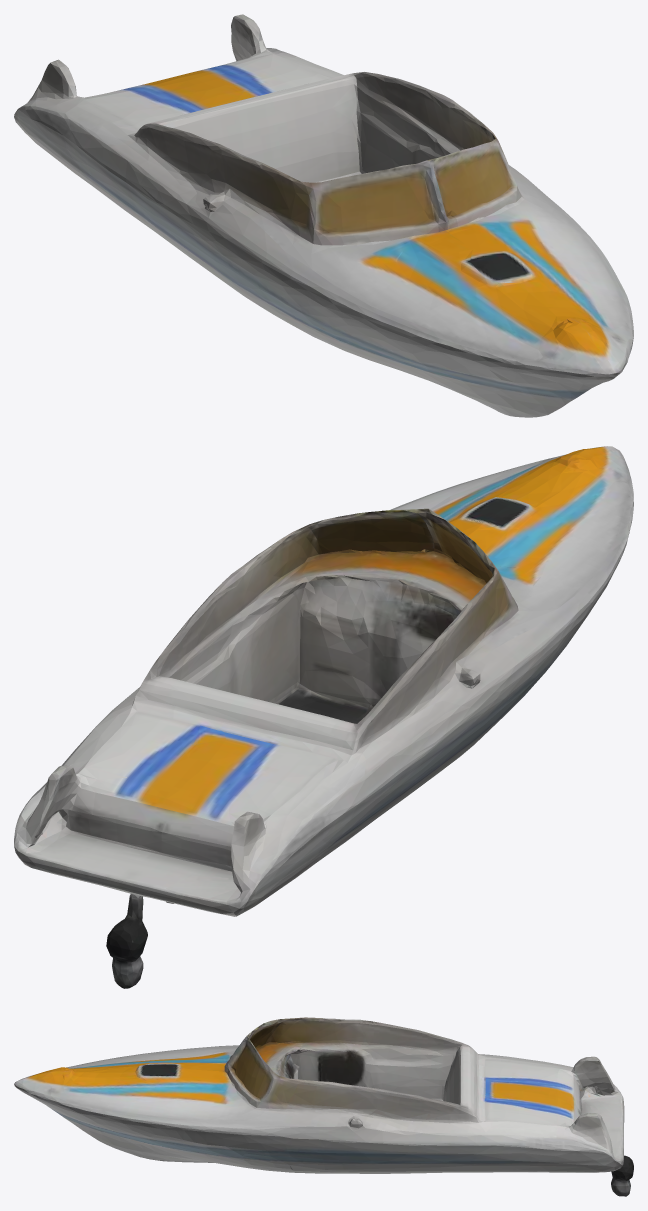
Rendered from boat.glb.
3 renders of one model, top to bottom at view 1: azimuth 30°, elevation 25°; view 2: azimuth 150°, elevation 25°; view 3: azimuth 270°, elevation 25°, orthographic. The views are drawn at different scales.
Visible parts, largest first — view 1: geometry_0; view 2: geometry_0; view 3: geometry_0.
Boxes of the visible parts, left/top/right/bottom form: geometry_0: left=14, top=14, right=633, bottom=417; geometry_0: left=14, top=446, right=633, bottom=988; geometry_0: left=14, top=1017, right=633, bottom=1196.
Size of the model in its own units: 0.3309 by 0.2862 by 1.
1 material, 1 textured.
